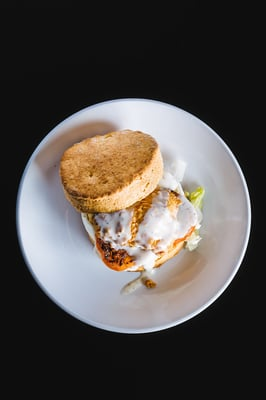soup: (58, 129, 203, 283)
